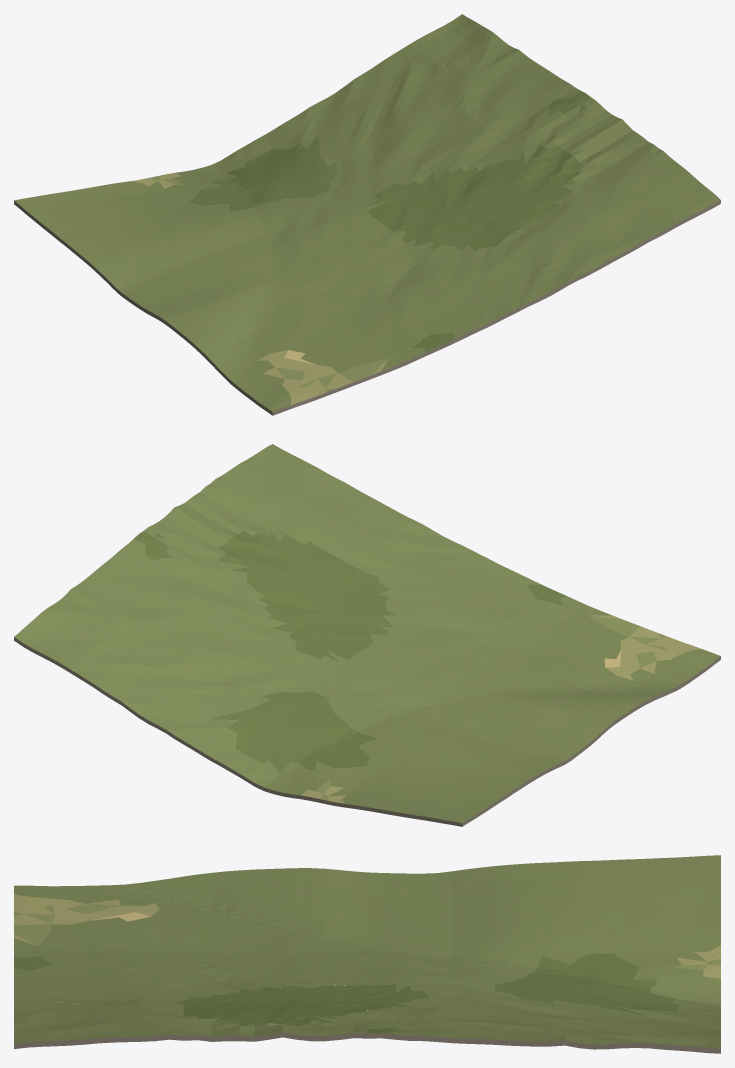
Rendered from parca_+2_-7-uzak.glb.
The picture shows the model from 3 angles, top to bottom: view 1: azimuth 30°, elevation 25°; view 2: azimuth 150°, elevation 25°; view 3: azimuth 270°, elevation 25°; orthographic projection. The views are drawn at different scales.
Parts seen in each view (by area): view 1: parca_+2_-7_arazi_uzak; view 2: parca_+2_-7_arazi_uzak; view 3: parca_+2_-7_arazi_uzak.
Part boxes in pixels (x1,y1,x2,y2): parca_+2_-7_arazi_uzak: (14, 14, 720, 415); parca_+2_-7_arazi_uzak: (14, 444, 720, 826); parca_+2_-7_arazi_uzak: (14, 855, 720, 1053).
Bounding box in the file's own units: 1000 × 246 × 1000.
